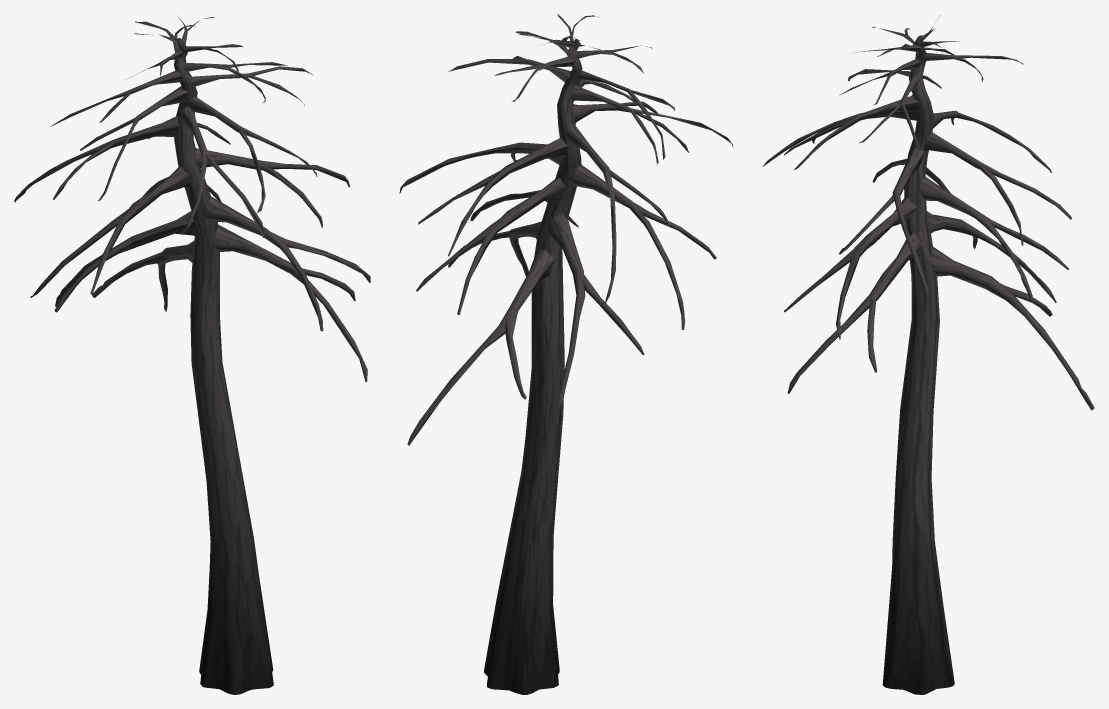
File: DeadTree_3.gltf
The picture shows the model from 3 angles, left to right: view 1: azimuth 30°, elevation 25°; view 2: azimuth 150°, elevation 25°; view 3: azimuth 270°, elevation 25°; orthographic projection. The views are drawn at different scales.
Visible parts, largest first — view 1: DeadTree_3; view 2: DeadTree_3; view 3: DeadTree_3.
Boxes of the visible parts, <box> form: DeadTree_3: <box>14,17,370,694</box>; DeadTree_3: <box>399,14,733,694</box>; DeadTree_3: <box>762,15,1094,694</box>.
Bounding box in the file's own units: 6.38 × 13.28 × 6.42.
1 material, 1 textured.
